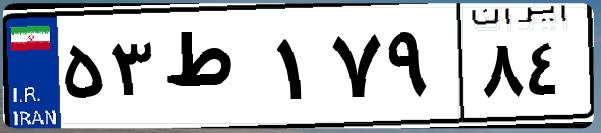1: (270, 28, 330, 110)
3: (110, 28, 158, 98)
4: (525, 38, 570, 115)
5: (57, 26, 110, 100)
7: (330, 28, 385, 110)
8: (475, 38, 525, 113)
9: (385, 28, 445, 110)
ط: (158, 20, 270, 120)
